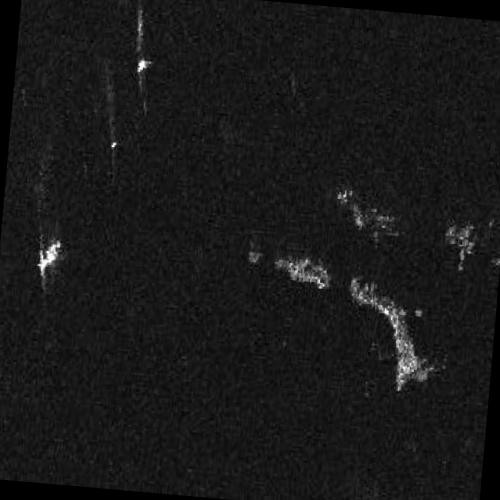ship: (37, 238, 62, 273), (135, 56, 151, 74)
